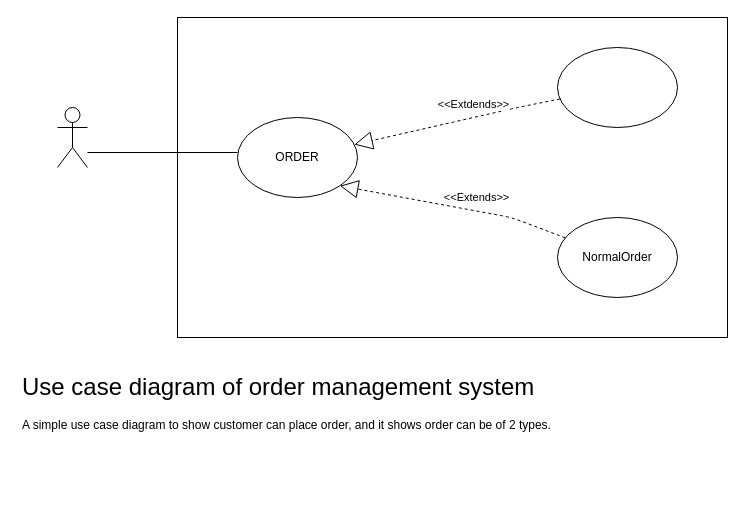
Image size: 745x505. Some labels were removed from this diagram. Here are the shapes that lost their labels. From the top down, the centre of each, then its label:
At pixel 617 87: "SpecialOrder".
At pixel 72 137: "Customer".
